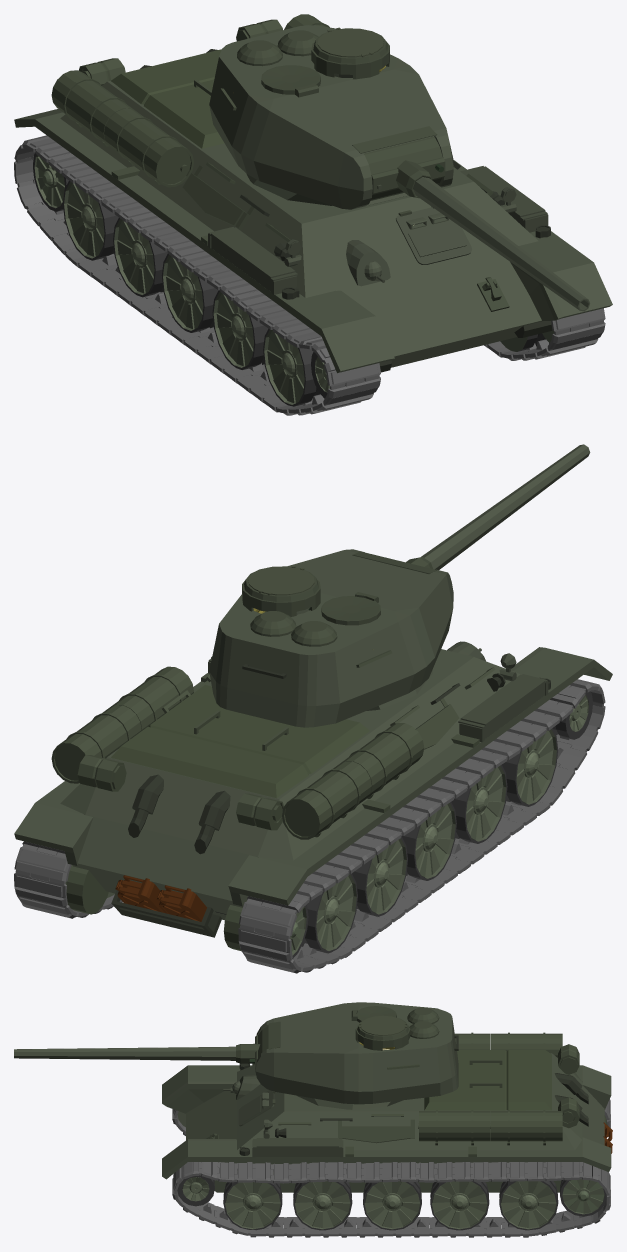
The picture shows the model from 3 angles, top to bottom: view 1: azimuth 30°, elevation 25°; view 2: azimuth 150°, elevation 25°; view 3: azimuth 270°, elevation 25°; orthographic projection. The views are drawn at different scales.
Visible parts, largest first — view 1: Cube, Plane, Cube.003, Cube.001, Plane.011, Cylinder.017, Cylinder.002, Cylinder.010, Plane.002, Circle.013, Circle.003, Circle.011 (+19 smaller); view 2: Plane, Cube, Cube.003, Plane.011, Cube.001, Cylinder.010, Cube.002, Cylinder.002, Cylinder.003, Cylinder.017, Circle.013, Plane.002 (+21 smaller); view 3: Plane, Cube.002, Cube, Cube.001, Plane.011, Cylinder.002, Circle.039, Circle.038, Circle.037, Circle.036, Circle.001, Cylinder.003 (+19 smaller).
Part boxes in pixels (x1=…): Cube: x1=60, y1=80, x2=542, y2=367; Plane: x1=209, y1=25, x2=453, y2=209; Cube.003: x1=14, y1=135, x2=380, y2=415; Cube.001: x1=14, y1=109, x2=612, y2=373; Plane.011: x1=111, y1=49, x2=224, y2=148; Cylinder.017: x1=104, y1=108, x2=193, y2=187; Cylinder.002: x1=413, y1=177, x2=589, y2=311; Cylinder.010: x1=51, y1=70, x2=135, y2=146; Plane.002: x1=208, y1=227, x2=297, y2=294; Circle.013: x1=63, y1=181, x2=118, y2=260; Circle.003: x1=263, y1=328, x2=319, y2=406; Circle.011: x1=161, y1=254, x2=218, y2=332; Plane: x1=209, y1=549, x2=453, y2=727; Cube: x1=60, y1=649, x2=521, y2=920; Cube.003: x1=238, y1=679, x2=605, y2=973; Plane.011: x1=111, y1=685, x2=369, y2=798; Cube.001: x1=14, y1=647, x2=612, y2=906; Cylinder.010: x1=282, y1=761, x2=371, y2=839; Cube.002: x1=14, y1=841, x2=122, y2=918; Cylinder.002: x1=421, y1=444, x2=590, y2=569; Cylinder.003: x1=51, y1=705, x2=141, y2=783; Cylinder.017: x1=340, y1=723, x2=424, y2=798; Circle.013: x1=301, y1=873, x2=357, y2=953; Plane.002: x1=458, y1=674, x2=548, y2=742; Plane: x1=255, y1=1002, x2=458, y2=1109; Cube.002: x1=172, y1=1162, x2=610, y2=1237; Cube: x1=186, y1=1053, x2=604, y2=1192; Cube.001: x1=162, y1=1065, x2=611, y2=1179; Plane.011: x1=424, y1=1050, x2=551, y2=1110; Cylinder.002: x1=14, y1=1046, x2=235, y2=1060; Circle.039: x1=499, y1=1176, x2=558, y2=1230; Circle.038: x1=430, y1=1181, x2=489, y2=1230; Circle.037: x1=363, y1=1181, x2=421, y2=1230; Circle.036: x1=293, y1=1181, x2=352, y2=1230; Circle.001: x1=223, y1=1172, x2=282, y2=1230; Cylinder.003: x1=490, y1=1110, x2=562, y2=1145.
Size of the model in its own units: 124 by 111 by 338.
